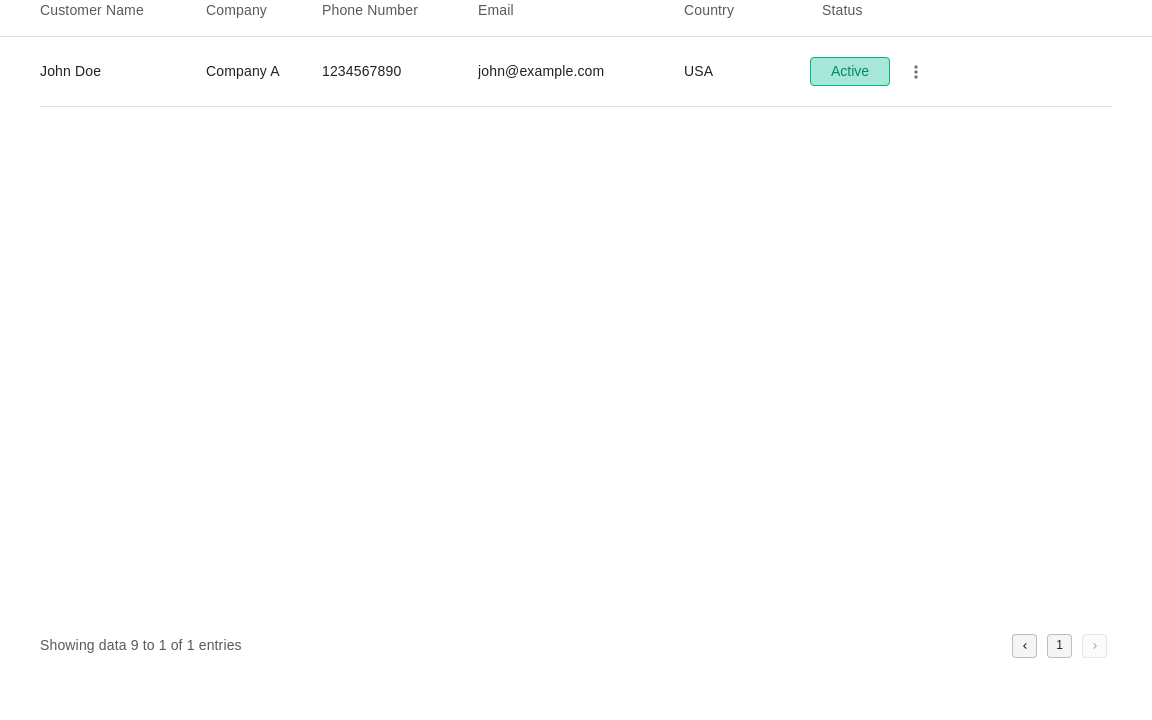
ListItemCustomers component › Should handle opening and closing Update Modal
Note: Click open menu
Click the button with test id "button-more-menu". click: [916, 72]
box: [906,62,926,82]
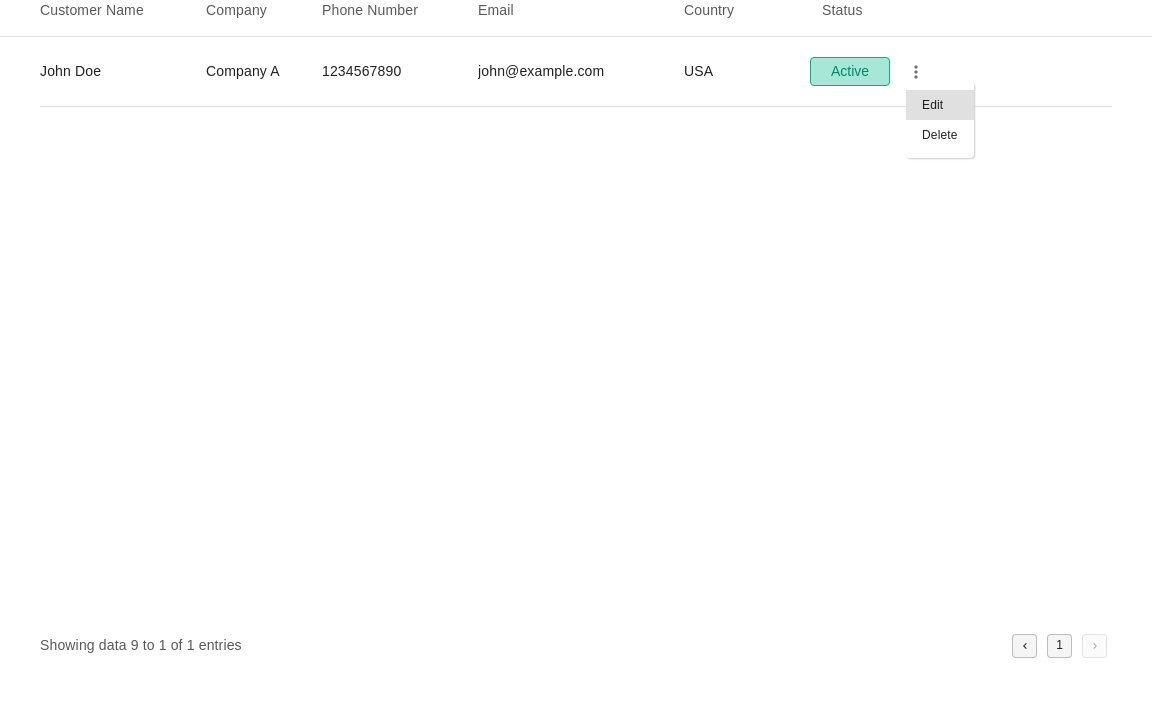
Click the menu item "Edit". click: [940, 105]
box: [906,90,974,120]
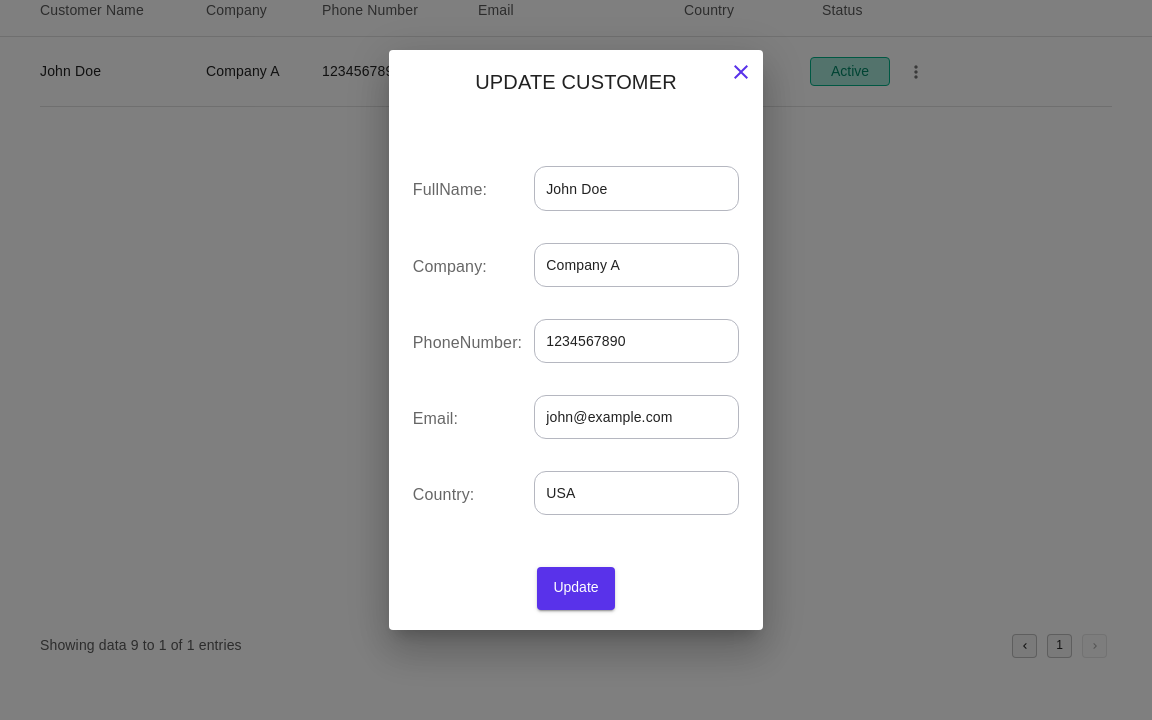
Expected: the heading "UPDATE CUSTOMER" is shown, [475,71,677,93]
Note: Close modal
Click the button with test id "close-modal-button". click: [741, 72]
box: [728,60,753,84]
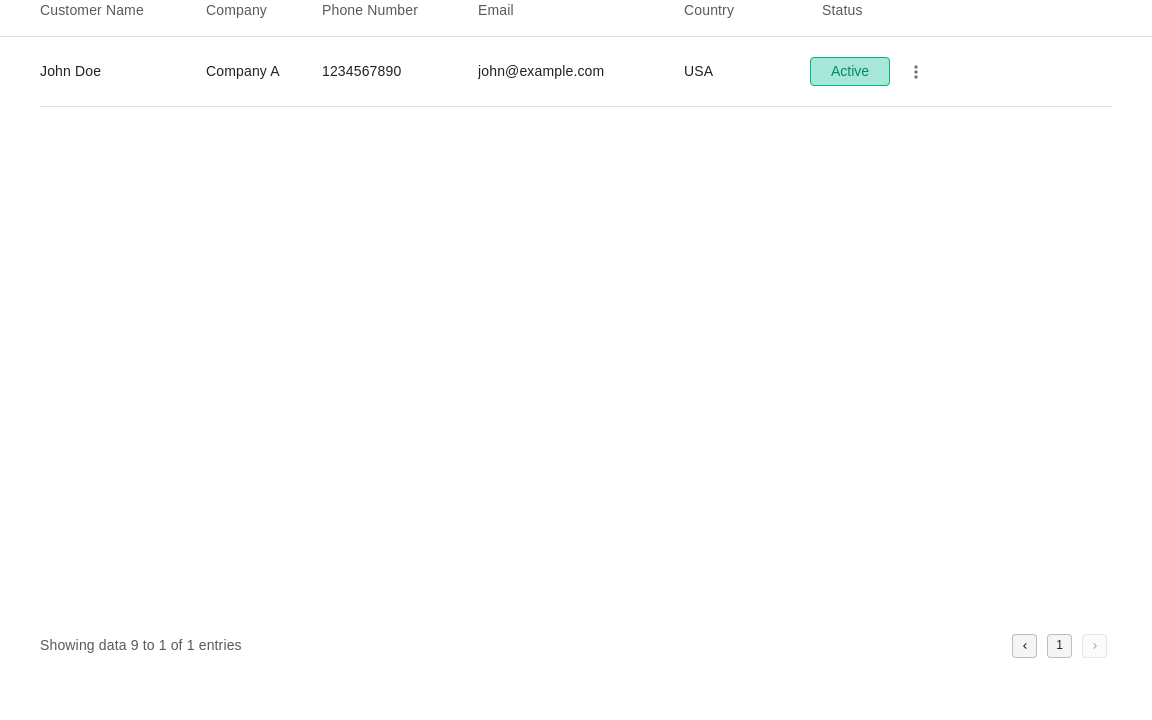
Expected: the heading "UPDATE CUSTOMER" is gone
